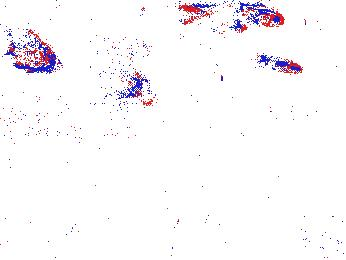X-ray fish: (4, 29, 63, 75), (90, 24, 155, 62), (31, 1, 79, 16)
red belly glassfish: (240, 1, 285, 28), (255, 53, 303, 75), (308, 17, 339, 36)
redtail glassfish: (179, 1, 262, 29), (130, 75, 155, 110)
